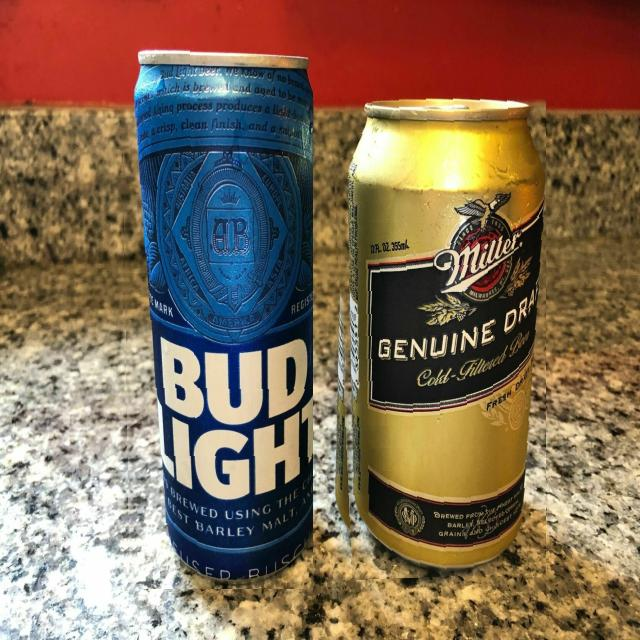Cans: (121, 16, 313, 589), (330, 78, 546, 580)
